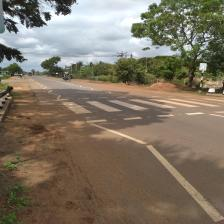crossing: (29, 75, 223, 222)
